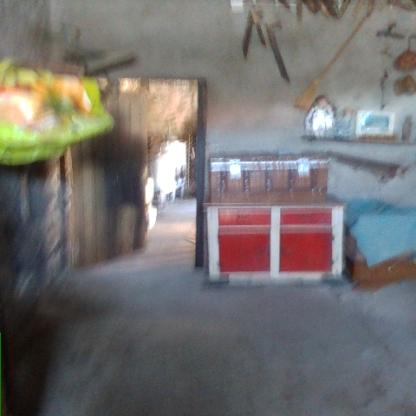semi: (59, 63, 215, 266)
